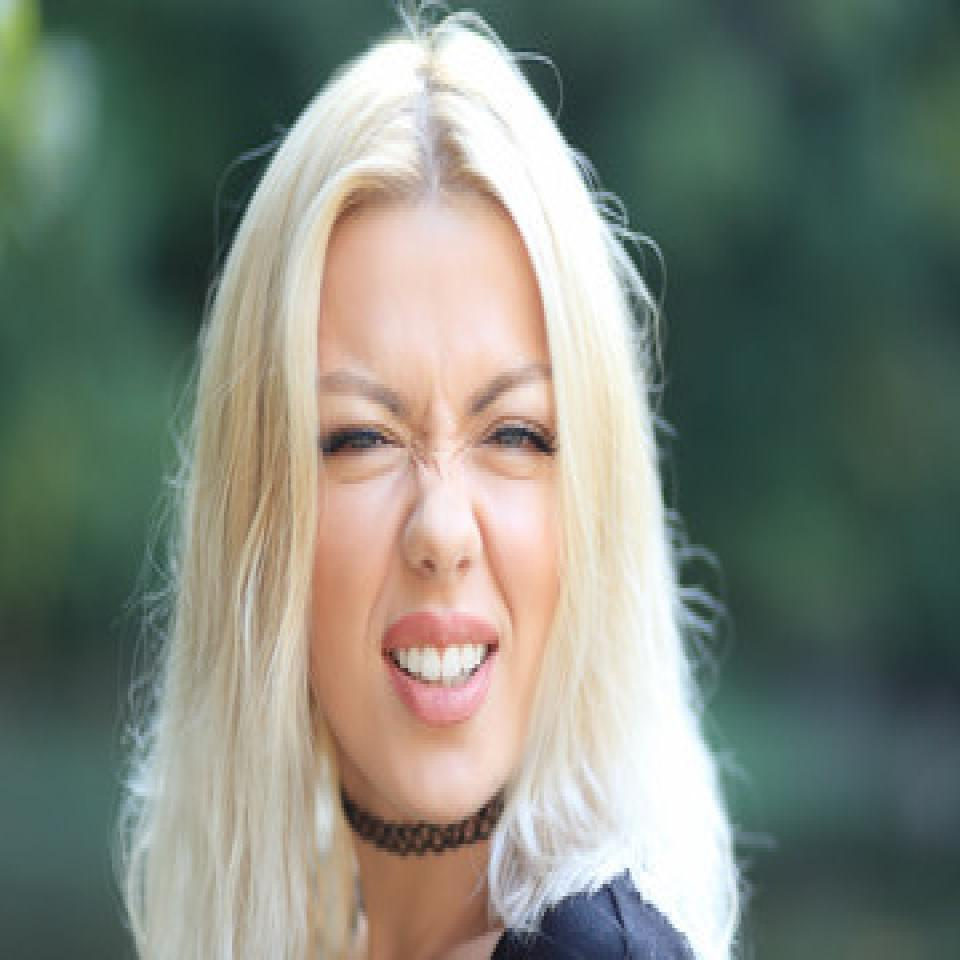Disgust: (309, 190, 588, 769)
